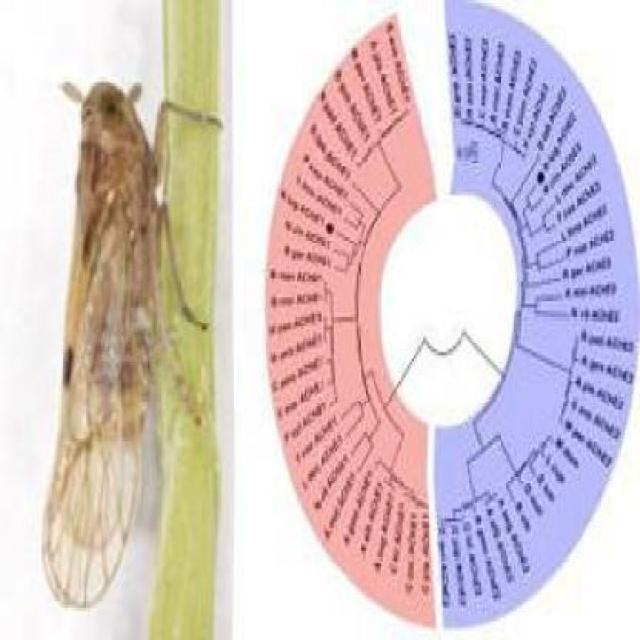brown-planthopper: (35, 66, 167, 602)
